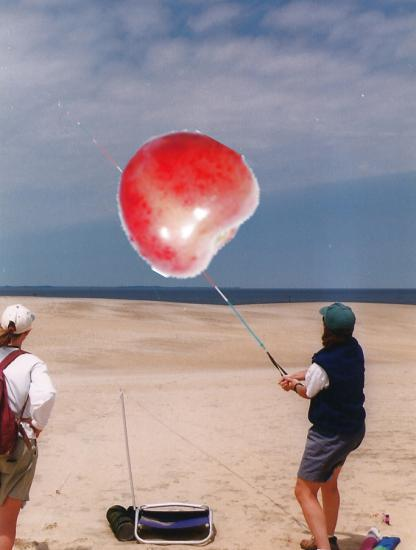Cherry: (110, 132, 255, 277)
